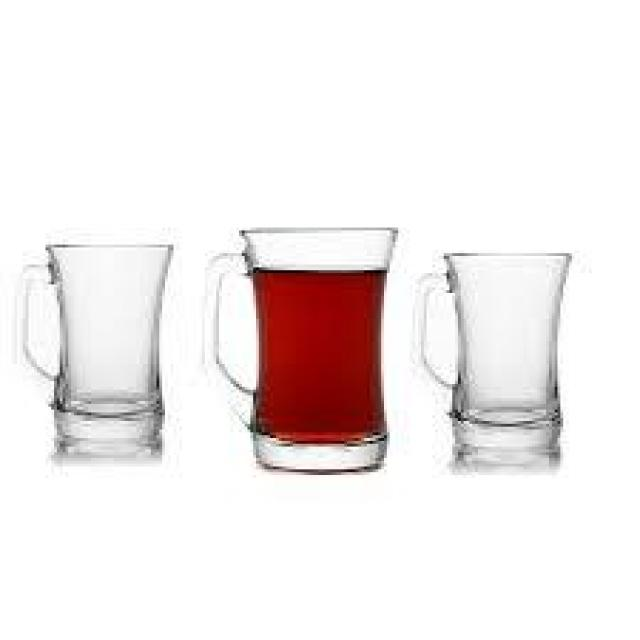non-organic waste: (203, 219, 400, 475), (8, 240, 176, 442)
